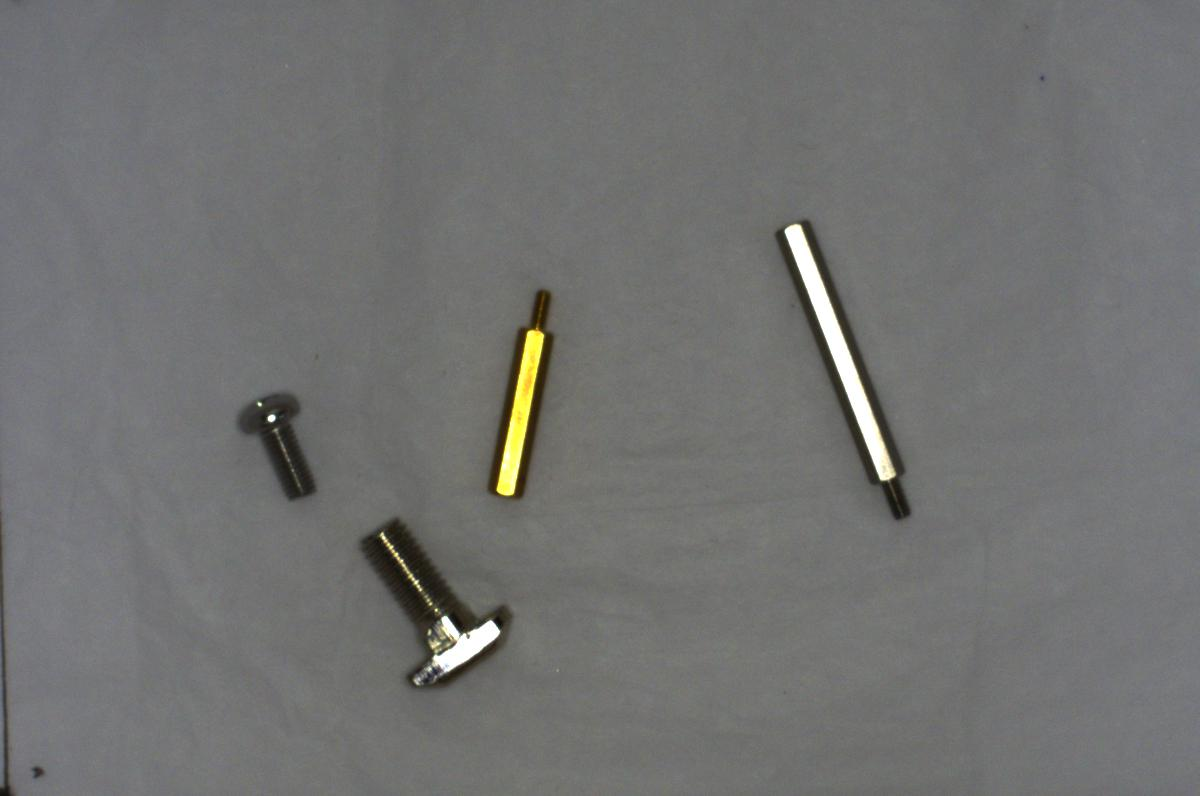Hexagon pillar: (482, 280, 566, 505)
Hexagonal steel column: (773, 210, 915, 532)
Round head screw: (233, 382, 324, 507)
T-shaped screw: (347, 507, 524, 696)
